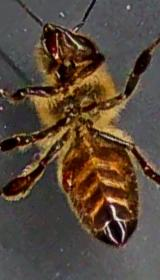varroa_mite: (50, 163, 84, 194)
